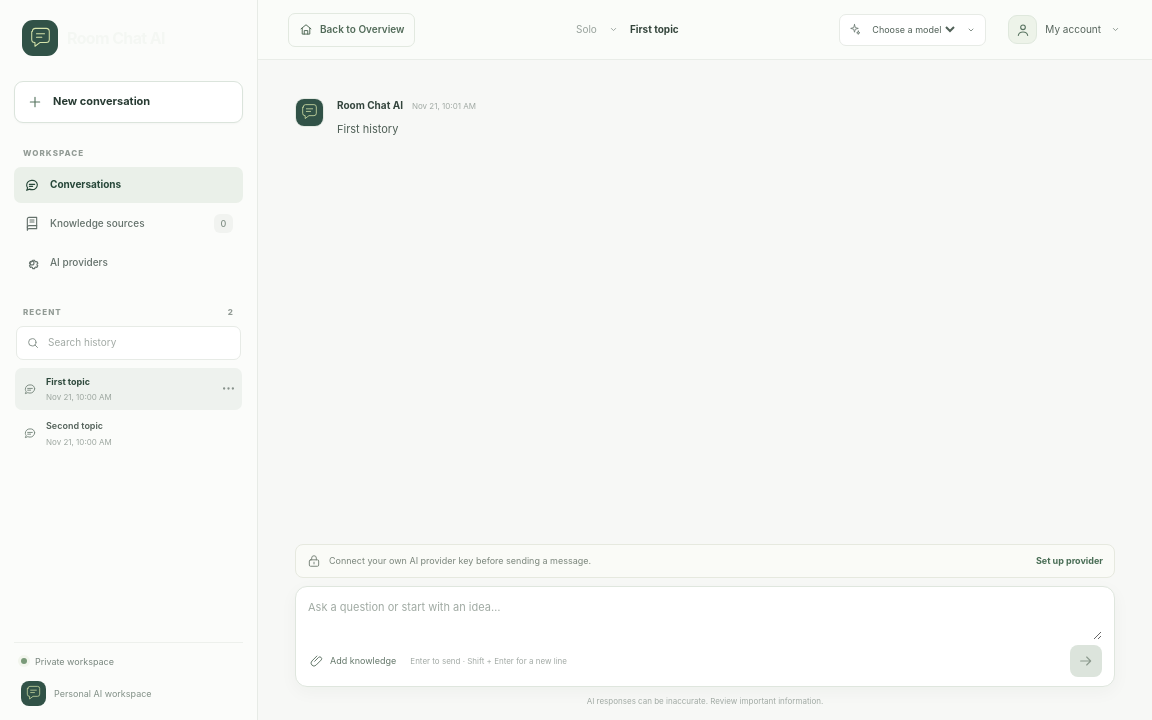
Solo workspace › switches conversation history without carrying the previous messages across
This screenshot has width=1152, height=720.
Expected: the text "First history" is shown, 337,122 -> 398,136
Click the button "Second topic Nov 21, 10:00 AM" at [114, 433], box 15,412 -> 214,454
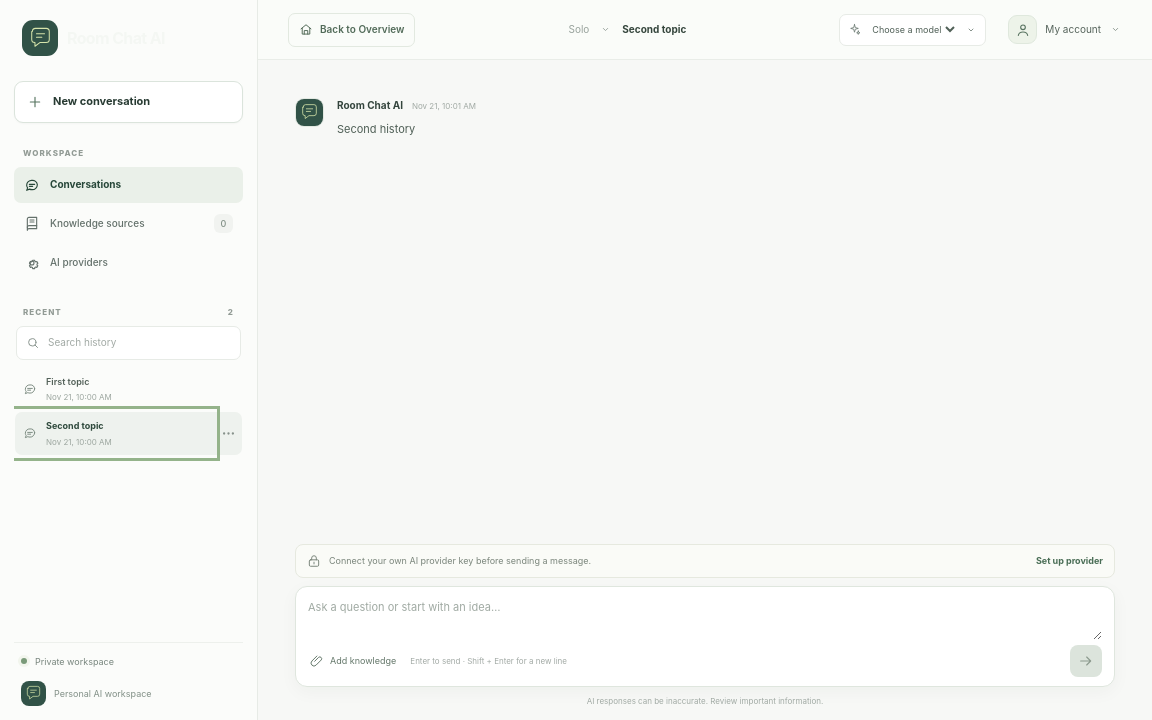
Expected: the text "Second history" is shown, 337,122 -> 415,136
Expected: the text "First history" is gone
